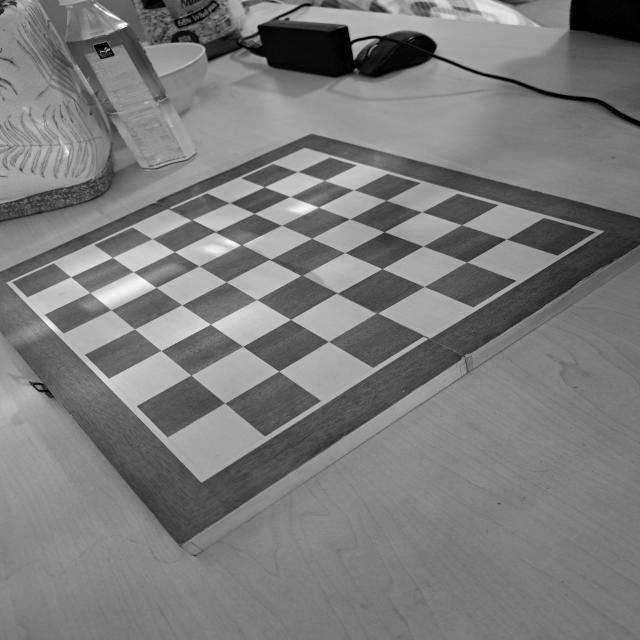chess-table-corners: (187, 462, 220, 486), (2, 274, 24, 290), (584, 225, 605, 239), (298, 145, 312, 155)
